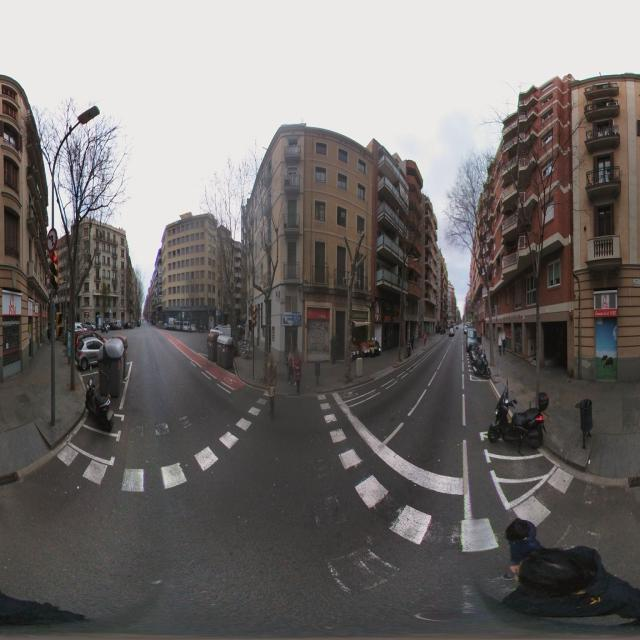bike: (486, 386, 551, 450), (84, 368, 116, 434), (471, 352, 492, 378)
car: (75, 337, 106, 369), (448, 326, 454, 336)
